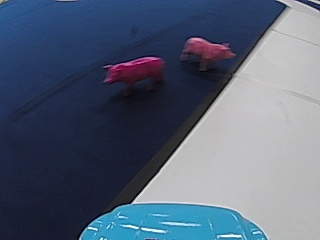pig: (99, 52, 165, 95), (180, 32, 236, 72)
